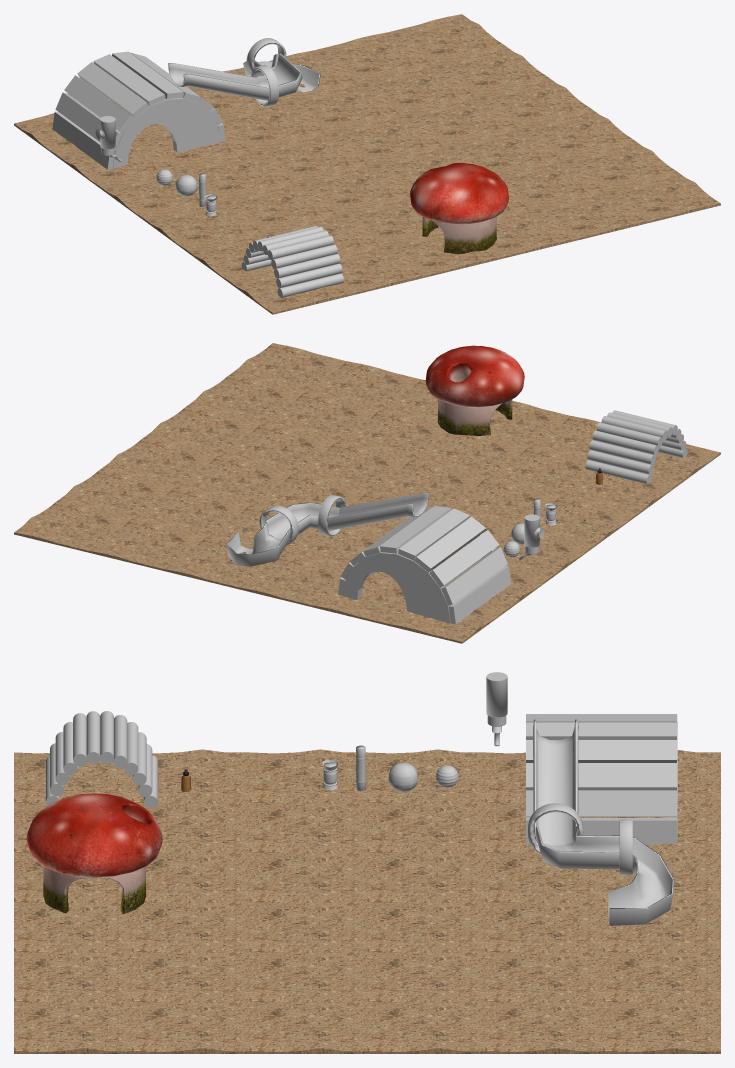
The model's file is Assets_TestLevel.fbx.
The picture shows the model from 3 angles, top to bottom: view 1: azimuth 30°, elevation 25°; view 2: azimuth 150°, elevation 25°; view 3: azimuth 270°, elevation 25°; orthographic projection. The views are drawn at different scales.
Visible parts, largest first — view 1: polySurface1, Habitat_Object_MushroomHut:polySurface5, level2:polySurface12, WoodChipFloor17, WoodChipFloor11, WoodChipFloor18, WoodChipFloor20, WoodChipFloor22, WoodChipFloor5, WoodChipFloor14, WoodChipFloor31, WoodChipFloor16 (+30 smaller); view 2: polySurface1, Habitat_Object_MushroomHut:polySurface5, level2:polySurface12, WoodChipFloor22, WoodChipFloor16, WoodChipFloor28, WoodChipFloor20, WoodChipFloor18, WoodChipFloor12, WoodChipFloor14, WoodChipFloor17, WoodChipFloor21 (+31 smaller); view 3: polySurface1, Habitat_Object_MushroomHut:polySurface5, level2:polySurface12, WoodChipFloor19, WoodChipFloor21, WoodChipFloor20, WoodChipFloor18, WoodChipFloor17, WoodChipFloor22, WoodChipFloor13, WoodChipFloor15, WoodChipFloor14 (+34 smaller).
Boxes of the visible parts, box(x1,y1,x2,y2) form: polySurface1: box(52, 51, 225, 169); Habitat_Object_MushroomHut:polySurface5: box(410, 163, 508, 253); level2:polySurface12: box(241, 226, 343, 297); WoodChipFloor17: box(603, 172, 720, 223); WoodChipFloor11: box(529, 190, 646, 241); WoodChipFloor18: box(560, 140, 677, 189); WoodChipFloor20: box(474, 77, 591, 126); WoodChipFloor22: box(388, 14, 504, 63); WoodChipFloor5: box(325, 114, 441, 163); WoodChipFloor14: box(399, 95, 516, 145); WoodChipFloor31: box(218, 182, 335, 231); WoodChipFloor16: box(313, 32, 429, 81); polySurface1: box(338, 506, 510, 624); Habitat_Object_MushroomHut:polySurface5: box(425, 345, 524, 435); level2:polySurface12: box(585, 410, 687, 484); WoodChipFloor22: box(14, 501, 131, 552); WoodChipFloor16: box(88, 519, 205, 570); WoodChipFloor28: box(238, 555, 343, 607); WoodChipFloor20: box(100, 438, 217, 487); WoodChipFloor18: box(187, 375, 303, 424); WoodChipFloor12: box(261, 393, 378, 442); WoodChipFloor14: box(175, 456, 292, 505); WoodChipFloor17: box(230, 343, 346, 392); WoodChipFloor21: box(57, 469, 174, 518); polySurface1: box(526, 714, 677, 844); Habitat_Object_MushroomHut:polySurface5: box(26, 793, 162, 913); level2:polySurface12: box(45, 711, 157, 807); WoodChipFloor19: box(249, 998, 367, 1053); WoodChipFloor21: box(485, 998, 603, 1053); WoodChipFloor20: box(367, 998, 485, 1053); WoodChipFloor18: box(131, 998, 249, 1053); WoodChipFloor17: box(14, 998, 131, 1053); WoodChipFloor22: box(603, 998, 720, 1053); WoodChipFloor13: box(249, 948, 367, 1002); WoodChipFloor15: box(485, 948, 603, 1002); WoodChipFloor14: box(367, 948, 485, 1002).
Bounding box in the file's own units: 180 × 29.1 × 180.
